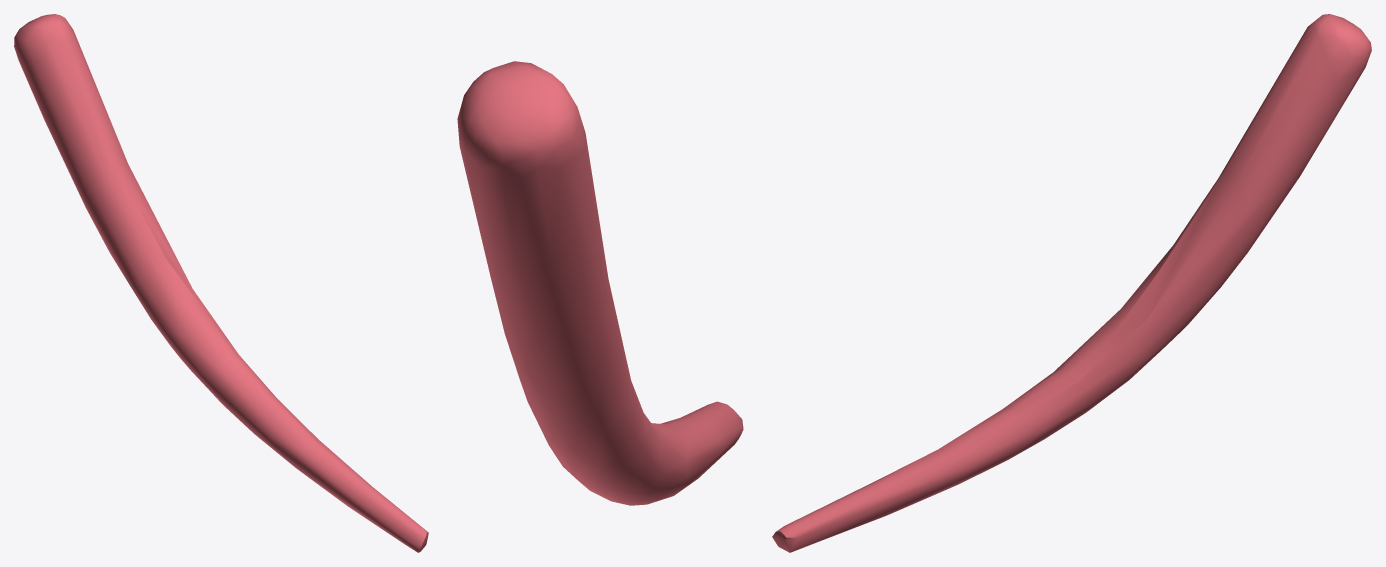
The model's file is fma68134_fj5967.glb.
The picture shows the model from 3 angles, left to right: view 1: azimuth 30°, elevation 25°; view 2: azimuth 150°, elevation 25°; view 3: azimuth 270°, elevation 25°; orthographic projection. The views are drawn at different scales.
Parts seen in each view (by area): view 1: FMA68134_FJ5967; view 2: FMA68134_FJ5967; view 3: FMA68134_FJ5967.
Part boxes in pixels (x1=…): FMA68134_FJ5967: x1=14, y1=14, x2=428, y2=552; FMA68134_FJ5967: x1=457, y1=61, x2=743, y2=505; FMA68134_FJ5967: x1=772, y1=14, x2=1371, y2=552.
Size of the model in its own units: 0.014 by 0.0302 by 0.0361.
